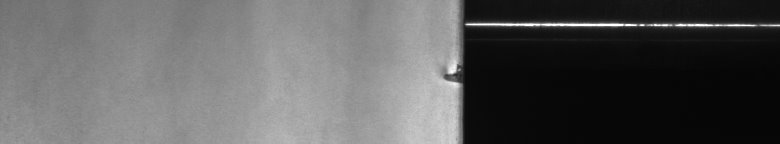hb: (433, 60, 452, 88)
